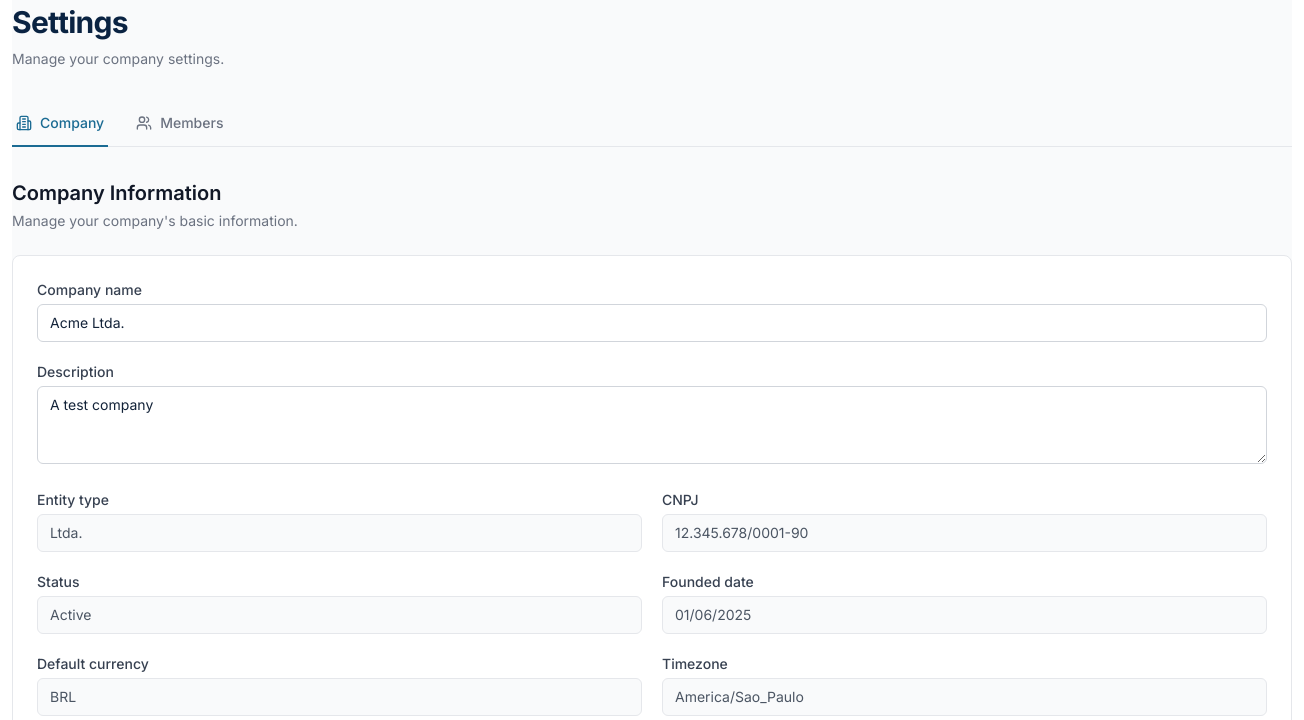
Test: SettingsPage › Members Tab › shows action menu with options for active members
The width and height of the screenshot is (1304, 720).
Click the button "Members" at (180, 124), box left=132, top=101, right=228, bottom=147
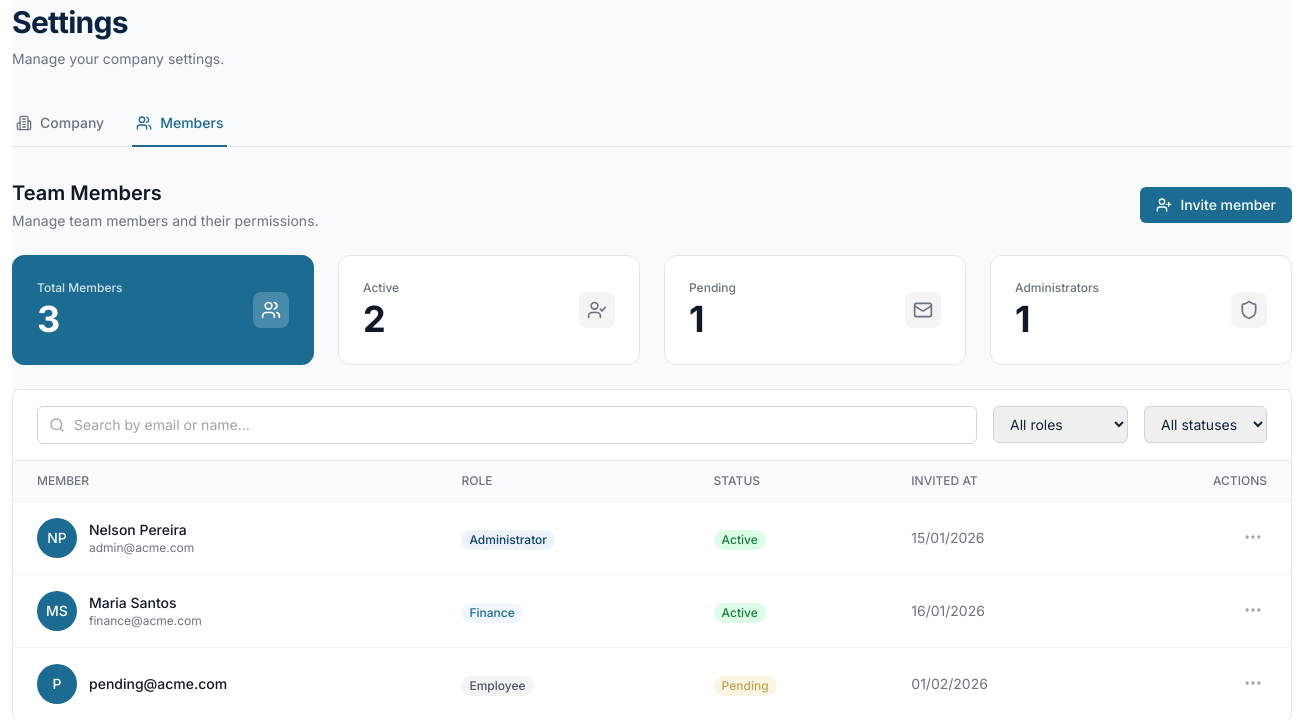
Click the button named "Actions" in the row of "NP" at (1253, 537), box left=1239, top=523, right=1267, bottom=551
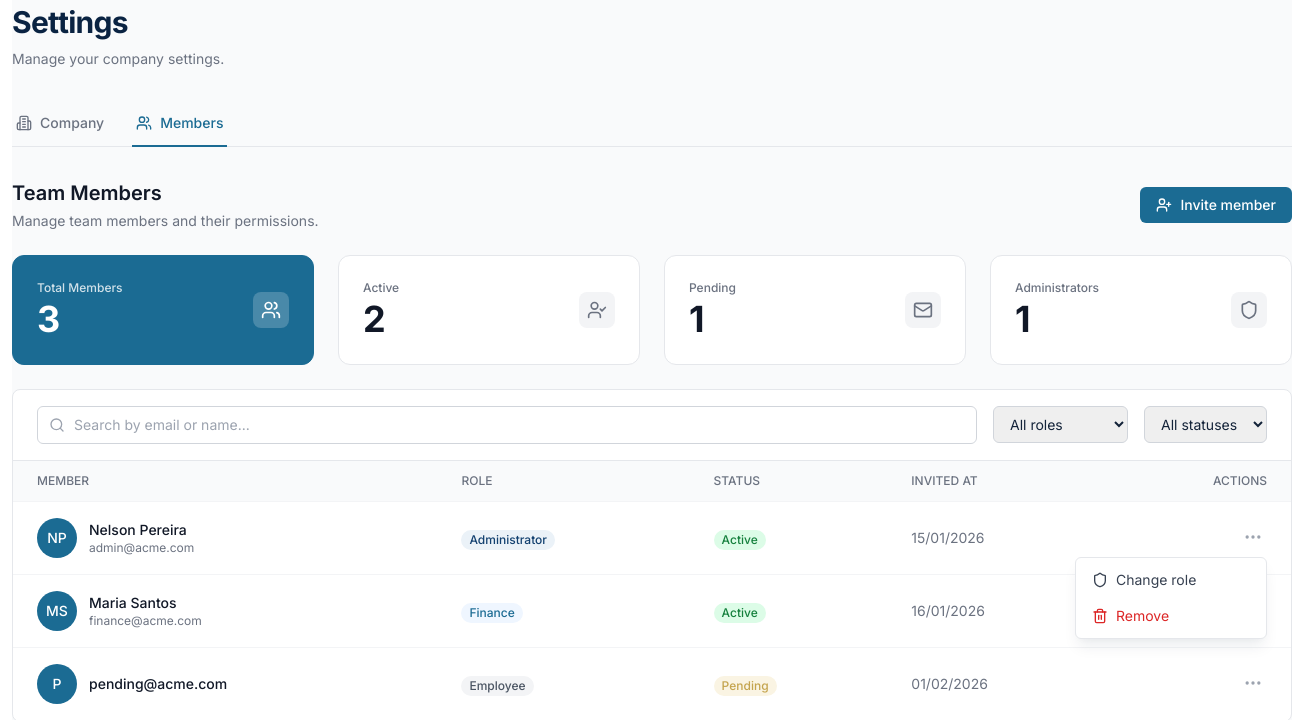
Check: the button "Change role" is shown, box left=1076, top=562, right=1266, bottom=598
Check: the button "Remove" is shown, box left=1076, top=598, right=1266, bottom=634
